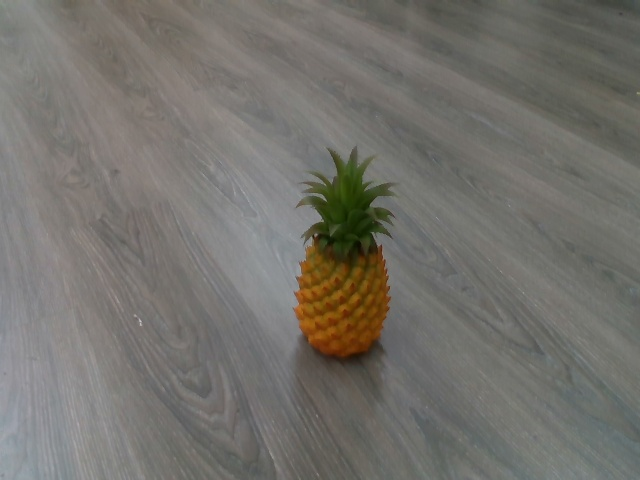pineapple: (295, 141, 398, 357)
